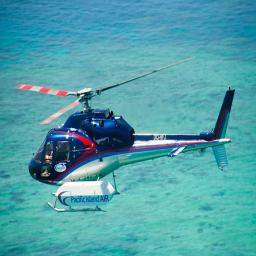helicopter: (25, 57, 239, 215)
